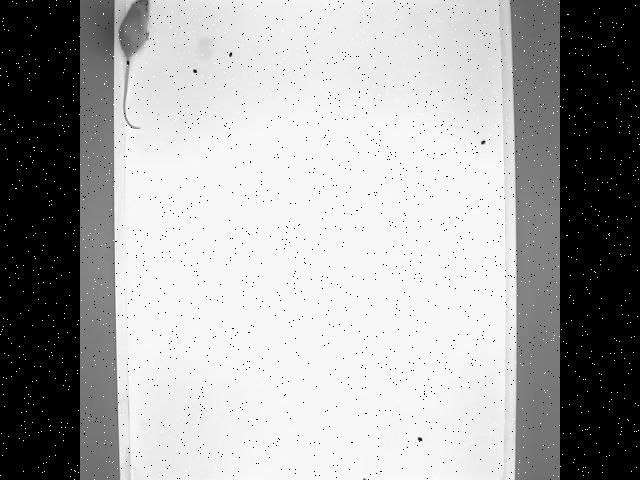Tikus: (116, 0, 157, 132)
